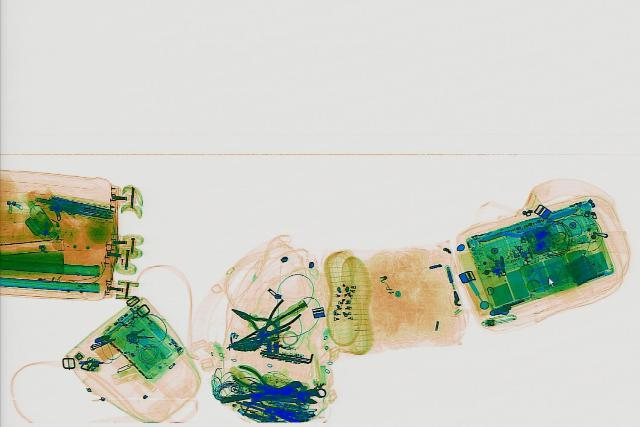Pliers: (244, 298, 308, 342), (222, 301, 284, 338), (225, 365, 287, 400)
